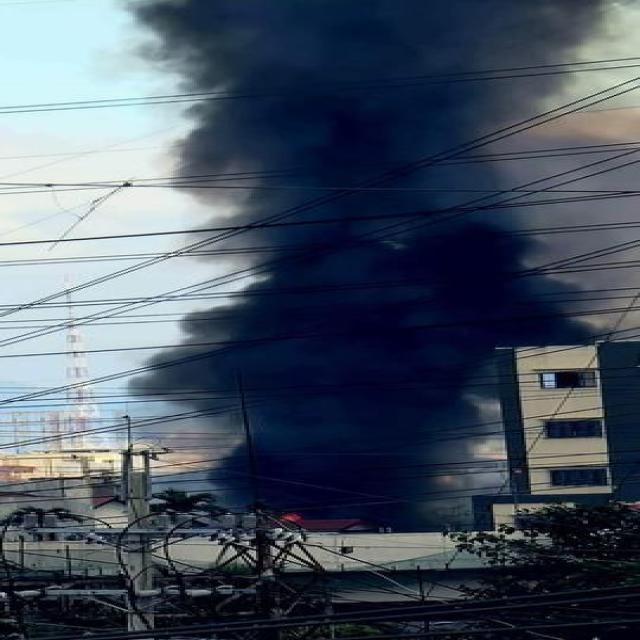Fire: (274, 508, 310, 524)
Smoke: (120, 0, 594, 527)
